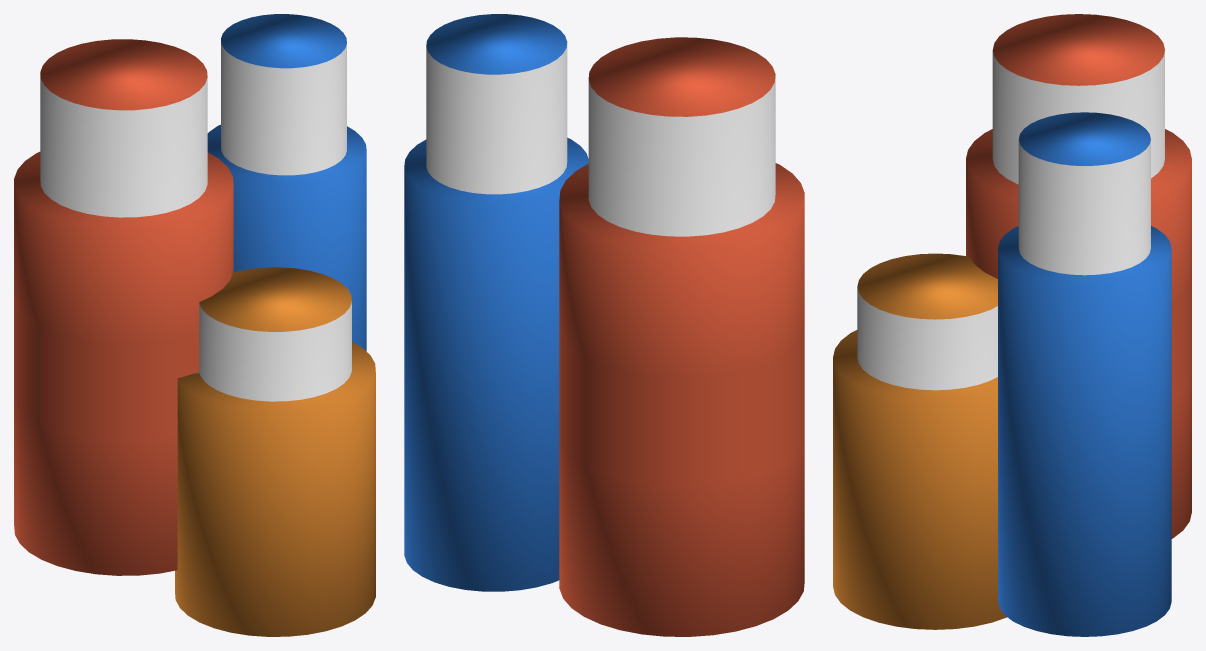
Rendered from Medicine_1.fbx.
3 renders of one model, left to right at view 1: azimuth 30°, elevation 25°; view 2: azimuth 150°, elevation 25°; view 3: azimuth 270°, elevation 25°, orthographic. The views are drawn at different scales.
Parts seen in each view (by area): view 1: Cylinder.001; view 2: Cylinder.001; view 3: Cylinder.001.
Boxes of the visible parts, left/top/right/bottom form: Cylinder.001: left=14, top=14, right=375, bottom=636; Cylinder.001: left=404, top=14, right=804, bottom=636; Cylinder.001: left=833, top=14, right=1191, bottom=636.
Bounding box in the file's own units: 1.76 × 2.49 × 1.63.
